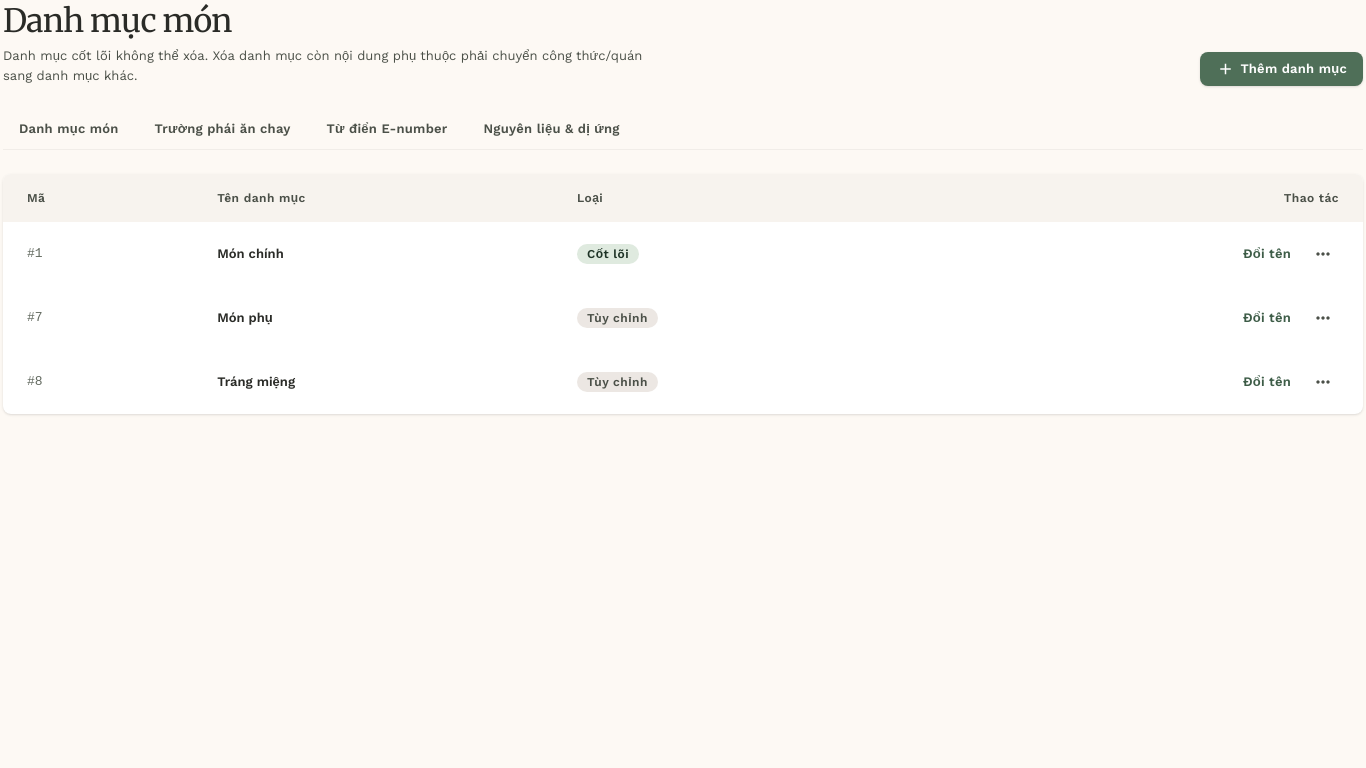
Test case: Quản lý danh mục món ăn (SCR-36) › xóa danh mục còn nội dung phụ thuộc yêu cầu chọn danh mục nhận dữ liệu
Later steps or results of the test are not shown.
Expected: the text "Món phụ" is shown, [201,286,561,350]
Click the button named "Thao tác khác" at {"x": 1323, "y": 318}, box [1307,302,1339,334]
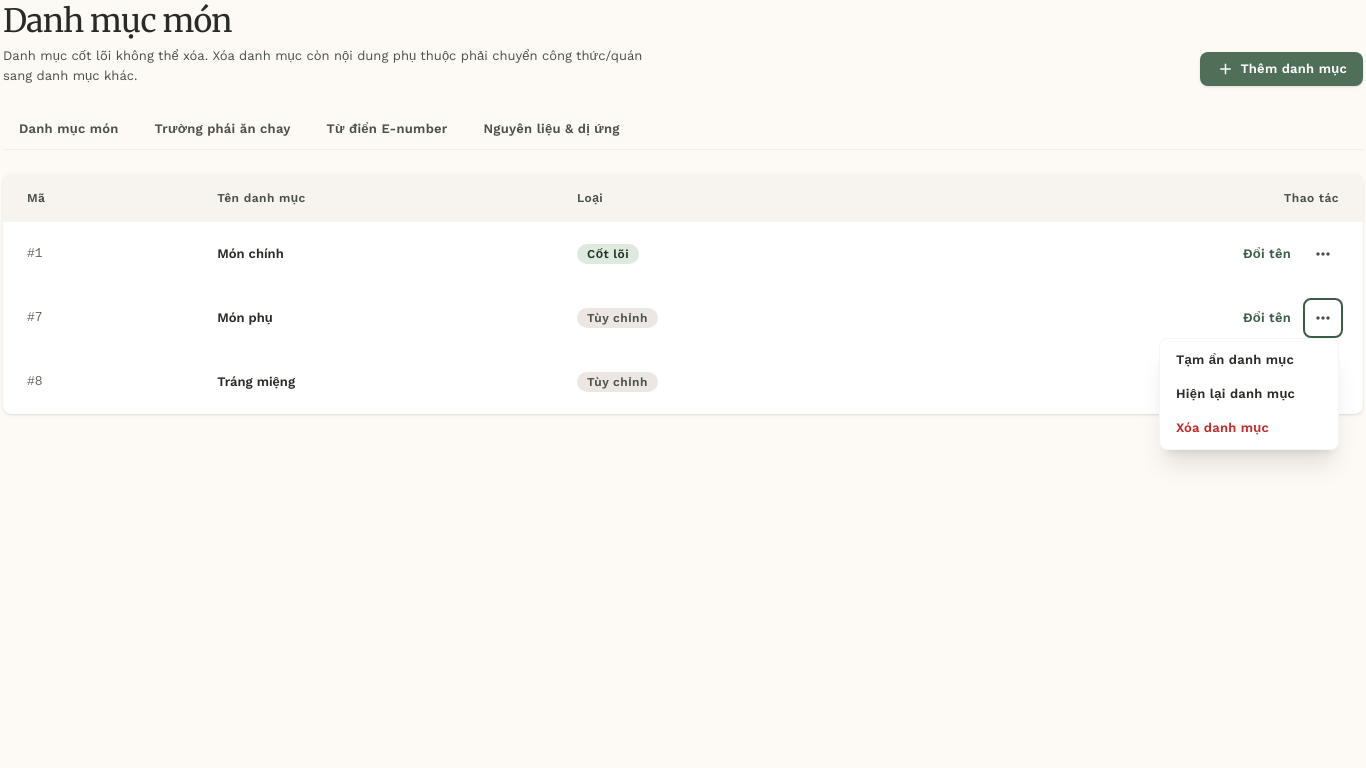
Click the menu item "Xóa danh mục" at {"x": 1249, "y": 428}, box [1160,411,1338,445]
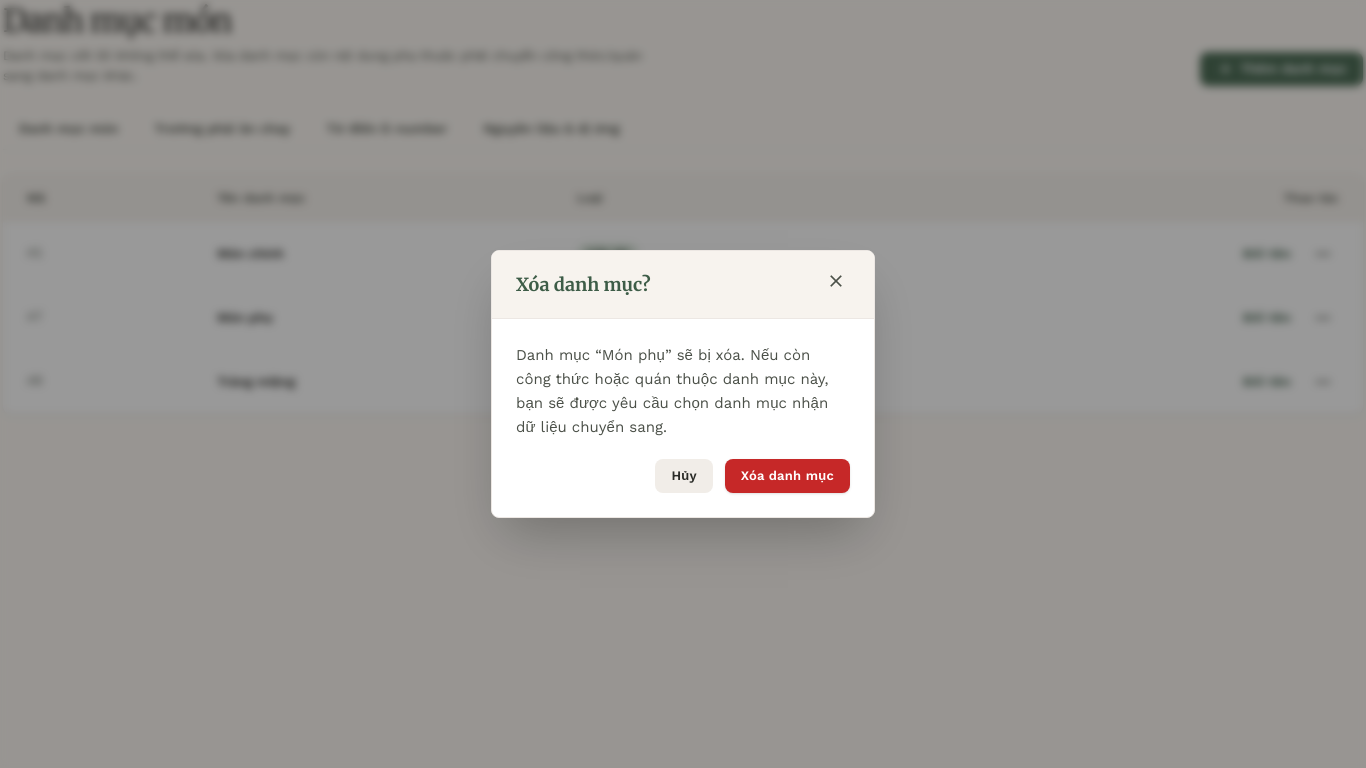
Click the button "Xóa danh mục" at {"x": 787, "y": 476}, box [725,459,850,493]
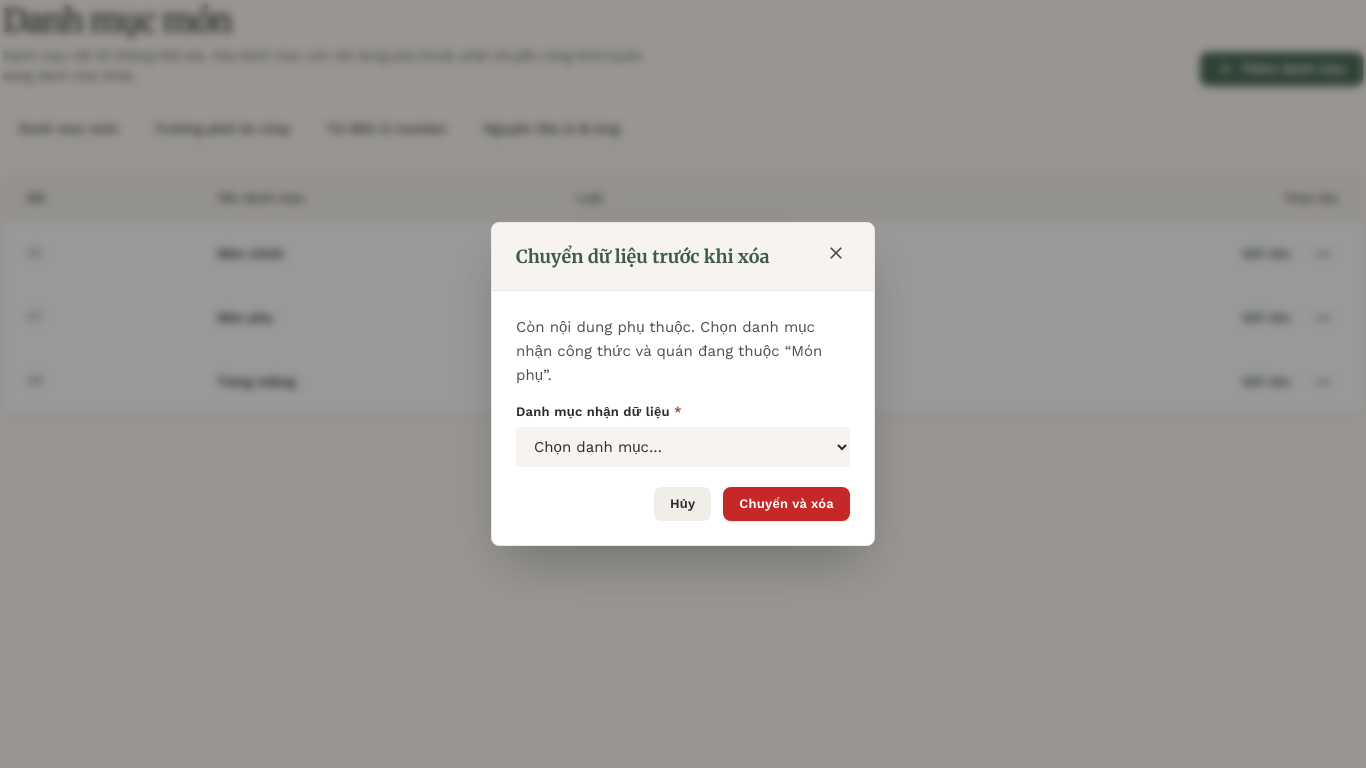
Expected: the text "Còn nội dung phụ thuộc." is shown, [516,318,695,336]
